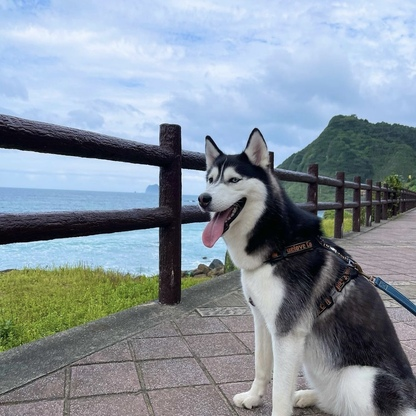husky: (194, 123, 416, 415)
